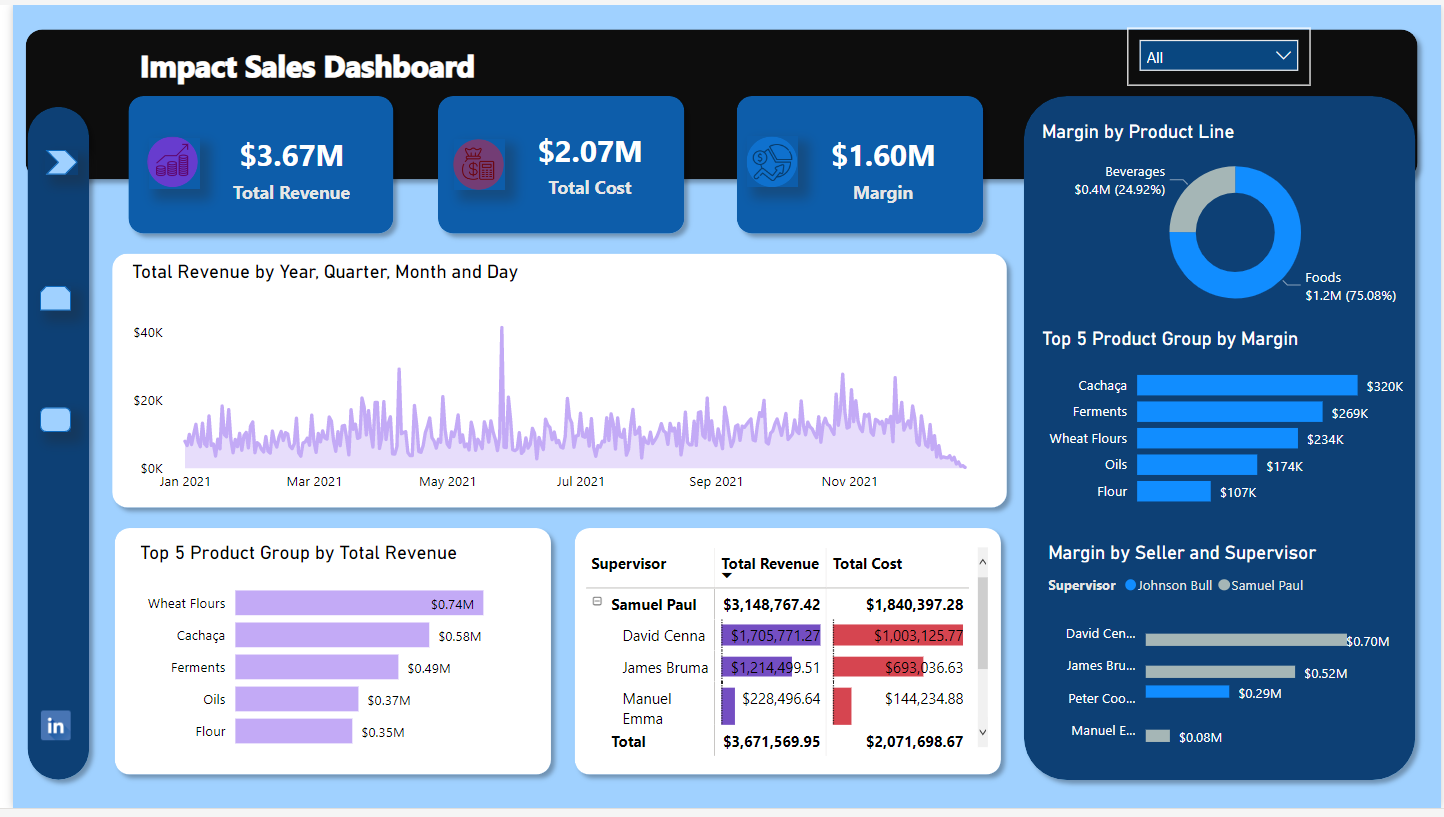

The page's visual inventory and layout, read from the dashboard file:
{"tool":"powerbi","page":{"name":"Page 1","canvas":[1280,720],"ordinal":0},"visuals":[{"type":"shape","box":[2.4,13.3,1265.1,152],"z":0},{"type":"shape","box":[897.3,72.4,369,630.8],"z":1000},{"type":"shape","box":[94.8,72.8,255.5,141.5],"z":2000},{"type":"shape","box":[372.2,72.8,239,141.5],"z":3000},{"type":"shape","box":[4.1,82.4,72.8,620.8],"z":4000},{"type":"shape","box":[640,72.8,239,141.5],"z":5000},{"type":"shape","box":[79.6,213.5,820.1,246],"z":6000},{"type":"shape","box":[82.4,460.1,409.3,239],"z":7000},{"type":"shape","box":[494.4,460.1,399.7,239],"z":8000},{"type":"donutChart","fields":{"Category":["Product Registration.Product Line"],"Y":["Key Measures.Margin"]},"box":[917.4,103,355.7,181.3],"z":9000},{"type":"clusteredBarChart","title":"Top 5 Product Group by Margin","fields":{"Category":["Product Registration.Product Group"],"Y":["Key Measures.Margin"]},"box":[917.4,289.8,335.1,170.3],"z":10000},{"type":"clusteredBarChart","fields":{"Y":["Key Measures.Margin"],"Category":["Revenue.Seller"],"Series":["Revenue.Supervisor"]},"box":[922.9,480.7,315.9,197.8],"z":11000},{"type":"card","fields":{"Values":["Key Measures.Margin"]},"box":[682.6,106.1,194.2,78.4],"z":12000},{"type":"card","fields":{"Values":["Key Measures.Total Cost"]},"box":[417.3,100.1,199,84.4],"z":13000},{"type":"card","fields":{"Values":["Key Measures.Total Revenue"]},"box":[159.2,106.1,180.9,78.4],"z":14000},{"type":"areaChart","fields":{"Category":["Dates.Date.Variation.Date Hierarchy.Year","Dates.Date.Variation.Date Hierarchy.Quarter","Dates.Date.Variation.Date Hierarchy.Month","Dates.Date.Variation.Date Hierarchy.Day"],"Y":["Key Measures.Total Revenue"]},"box":[101.3,229.1,782.7,215.9],"z":15000},{"type":"clusteredBarChart","title":"Top 5 Product Group by Total Revenue","fields":{"Y":["Key Measures.Total Revenue"],"Category":["Product Registration.Product Group"]},"box":[108.5,481.2,360.6,197.8],"z":16000},{"type":"pivotTable","fields":{"Rows":["Revenue.Supervisor","Revenue.Seller"],"Values":["Key Measures.Total Revenue","Key Measures.Total Cost"]},"box":[508.2,480.7,370.8,197.8],"z":17000},{"type":"slicer","fields":{"Values":["Revenue.Date.Variation.Date Hierarchy.Month"]},"box":[998.6,20.5,164,51.9],"z":18000},{"type":"textbox","box":[108.5,30.2,348.5,62.7],"z":19000},{"type":"shape","box":[28.9,130.3,29,22],"z":20000},{"type":"shape","box":[24.1,252.1,27.7,21.7],"z":21000},{"type":"shape","box":[24.1,360.6,28,22],"z":22000},{"type":"image","box":[657.3,114.6,45.8,54.3],"z":25000},{"type":"shape","box":[657.3,118.2,45.8,45.8],"z":26000},{"type":"image","box":[396.8,118.2,39.8,49.4],"z":27000},{"type":"image","box":[123,118.2,39.8,42.2],"z":28000},{"type":"shape","box":[394.4,120.6,45.8,45.8],"z":29000},{"type":"shape","box":[120.6,118.2,45.8,45.8],"z":30000},{"type":"shape","box":[658.5,118.2,45.8,45.8],"z":31000},{"type":"shape","box":[395.6,120.6,45.8,45.8],"z":32000},{"type":"shape","box":[121.8,119.4,45.8,45.8],"z":33000},{"type":"image","box":[15.9,627,44.8,37.6],"z":38000}]}

Visuals, with their boxes in screenshot pixels (x1, y1, x2, y2), scaled from the page's 1280x720 canvas onto the 1444x817 screenshot:
shape: bbox(3, 15, 1430, 188)
shape: bbox(1012, 82, 1429, 798)
shape: bbox(107, 83, 395, 243)
shape: bbox(420, 83, 690, 243)
shape: bbox(5, 94, 87, 798)
shape: bbox(722, 83, 992, 243)
shape: bbox(90, 242, 1015, 521)
shape: bbox(93, 522, 555, 793)
shape: bbox(558, 522, 1009, 793)
donutChart - Product Registration.Product Line x Key Measures.Margin: bbox(1035, 117, 1436, 323)
"Top 5 Product Group by Margin" clusteredBarChart: bbox(1035, 329, 1413, 522)
clusteredBarChart - Key Measures.Margin x Revenue.Seller: bbox(1041, 545, 1398, 770)
card - Key Measures.Margin: bbox(770, 120, 989, 209)
card - Key Measures.Total Cost: bbox(471, 114, 695, 209)
card - Key Measures.Total Revenue: bbox(180, 120, 384, 209)
areaChart - Dates.Date.Variation.Date Hierarchy.Year x Dates.Date.Variation.Date Hierarchy.Quarter: bbox(114, 260, 997, 505)
"Top 5 Product Group by Total Revenue" clusteredBarChart: bbox(122, 546, 529, 770)
pivotTable - Revenue.Supervisor x Revenue.Seller: bbox(573, 545, 992, 770)
slicer - Revenue.Date.Variation.Date Hierarchy.Month: bbox(1127, 23, 1312, 82)
textbox: bbox(122, 34, 516, 105)
shape: bbox(33, 148, 65, 173)
shape: bbox(27, 286, 58, 311)
shape: bbox(27, 409, 59, 434)
image: bbox(742, 130, 793, 192)
shape: bbox(742, 134, 793, 186)
image: bbox(448, 134, 493, 190)
image: bbox(139, 134, 184, 182)
shape: bbox(445, 137, 497, 189)
shape: bbox(136, 134, 188, 186)
shape: bbox(743, 134, 795, 186)
shape: bbox(446, 137, 498, 189)
shape: bbox(137, 135, 189, 187)
image: bbox(18, 711, 68, 754)
